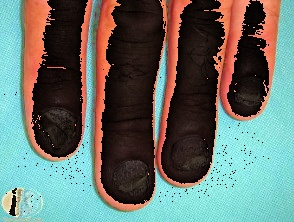Nail_psoriasis: (26, 93, 94, 162), (101, 148, 163, 209), (166, 124, 214, 174), (230, 75, 268, 112)
